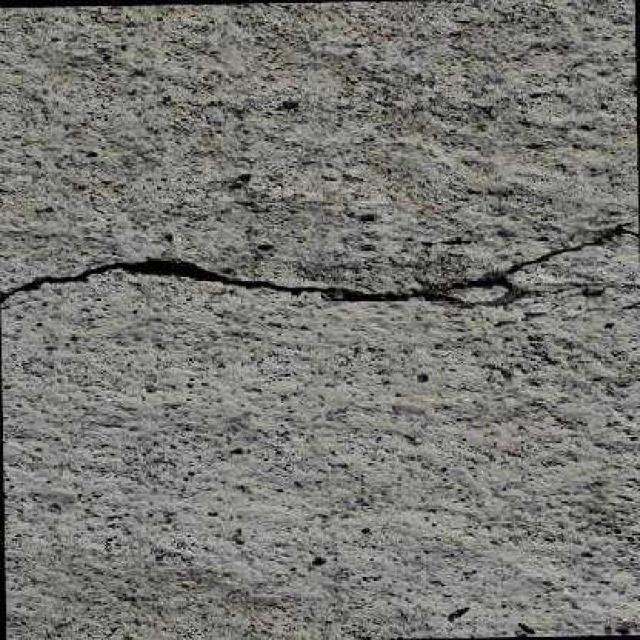D00: (0, 227, 639, 301)
